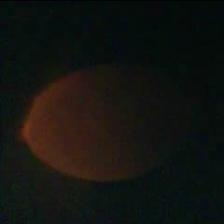fertile: (21, 68, 173, 184)
